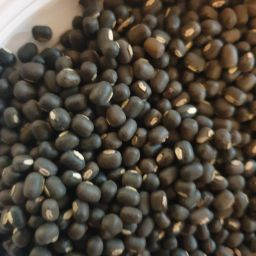Black Gram(urad daal): (72, 3, 160, 256), (170, 5, 256, 256), (1, 42, 69, 256)
